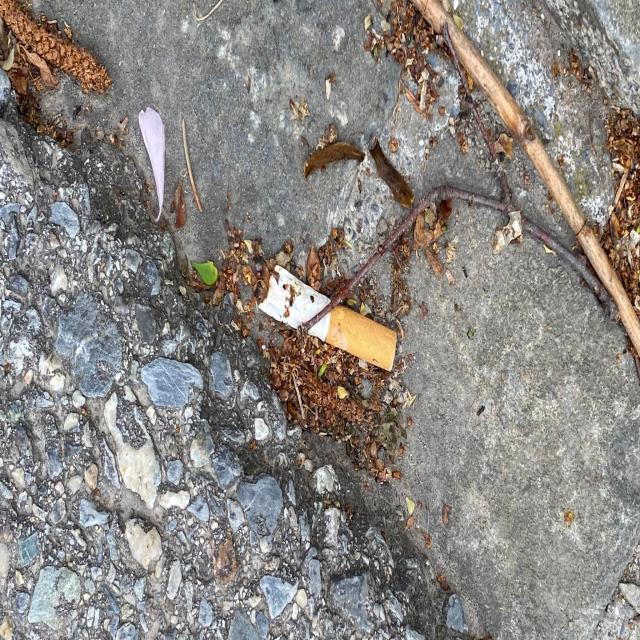other waste: (255, 260, 397, 372)
